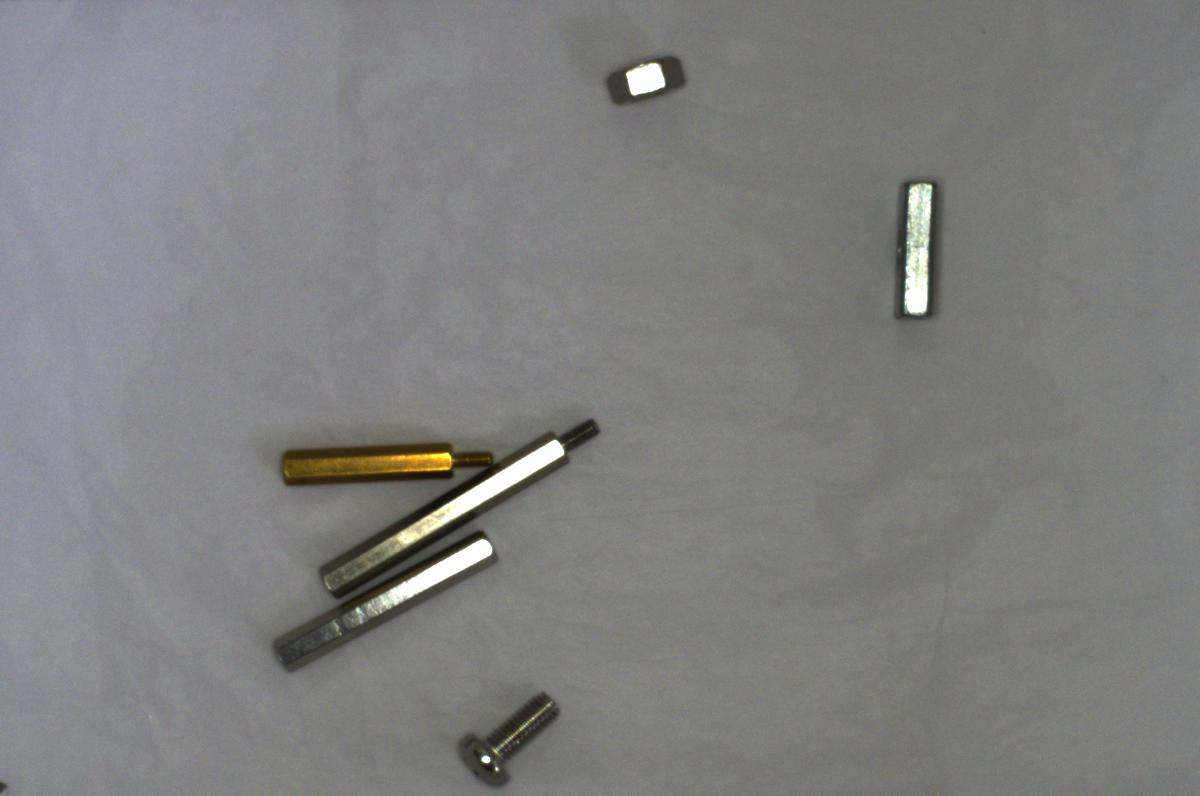Double hexagonal column: (255, 530, 510, 675)
Hexagon nut: (597, 41, 691, 113)
Hexagon pillar: (275, 433, 498, 489)
Hexagonal steel column: (311, 396, 615, 600)
Rectangular nut: (875, 170, 945, 328)
Round head screw: (442, 682, 573, 792)
